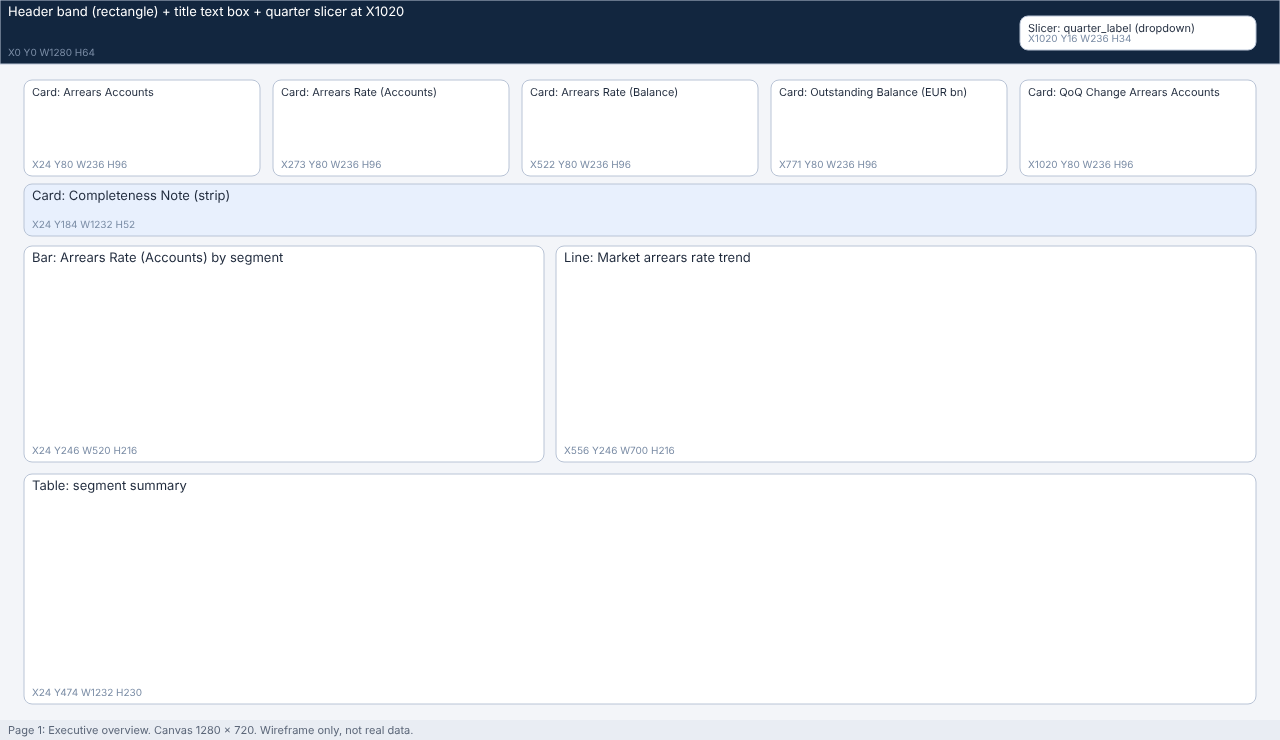

What the dashboard file says about the page in this screenshot:
{"tool":"powerbi","page":{"name":"Executive overview","canvas":[1280,720],"ordinal":0},"visuals":[{"type":"textbox","box":[0,0,1280,64],"z":0},{"type":"cardVisual","fields":{"Data":["_Measures.Arrears Accounts"]},"box":[24,80,236,96],"z":1},{"type":"cardVisual","fields":{"Data":["_Measures.Arrears Rate (Accounts)"]},"box":[273,80,236,96],"z":2},{"type":"cardVisual","fields":{"Data":["_Measures.Arrears Rate (Balance)"]},"box":[522,80,236,96],"z":3},{"type":"cardVisual","fields":{"Data":["_Measures.Outstanding Balance (EUR bn)"]},"box":[771,80,236,96],"z":4},{"type":"cardVisual","fields":{"Data":["_Measures.QoQ Change Arrears Accounts"]},"box":[1020,80,236,96],"z":5},{"type":"cardVisual","fields":{"Data":["_Measures.Completeness Note"]},"box":[24,184,1232,62],"z":6},{"type":"clusteredBarChart","title":"Arrears rate by segment (accounts)","fields":{"Category":["dim_segment.segment_label"],"Y":["_Measures.Arrears Rate (Accounts)"]},"box":[24,256,520,206],"z":7},{"type":"lineChart","title":"Market arrears rate over time (quarters where all 4 segments report)","fields":{"Category":["dim_date.quarter_label"],"Y":["_Measures.Arrears Rate Market Trend"]},"box":[556,256,700,206],"z":8},{"type":"tableEx","title":"Segment summary","fields":{"Values":["dim_segment.segment_label","_Measures.Arrears Accounts","_Measures.Outstanding Accounts","_Measures.Arrears Rate (Accounts)","_Measures.Segment Risk Rank"]},"box":[24,474,1232,230],"z":9},{"type":"slicer","fields":{"Values":["dim_date.quarter_label"]},"box":[1020,12,236,40],"z":50}]}

Visuals, with their boxes in screenshot pixels (x1, y1, x2, y2), scaled from the page's 1280x720 canvas onto the 1280x740 screenshot:
textbox: locate(0, 0, 1279, 66)
cardVisual - _Measures.Arrears Accounts: locate(24, 82, 260, 181)
cardVisual - _Measures.Arrears Rate (Accounts): locate(273, 82, 509, 181)
cardVisual - _Measures.Arrears Rate (Balance): locate(522, 82, 758, 181)
cardVisual - _Measures.Outstanding Balance (EUR bn): locate(771, 82, 1007, 181)
cardVisual - _Measures.QoQ Change Arrears Accounts: locate(1020, 82, 1256, 181)
cardVisual - _Measures.Completeness Note: locate(24, 189, 1256, 253)
"Arrears rate by segment (accounts)" clusteredBarChart: locate(24, 263, 544, 475)
"Market arrears rate over time (quarters where all 4 segments report)" lineChart: locate(556, 263, 1256, 475)
"Segment summary" tableEx: locate(24, 487, 1256, 724)
slicer - dim_date.quarter_label: locate(1020, 12, 1256, 53)
